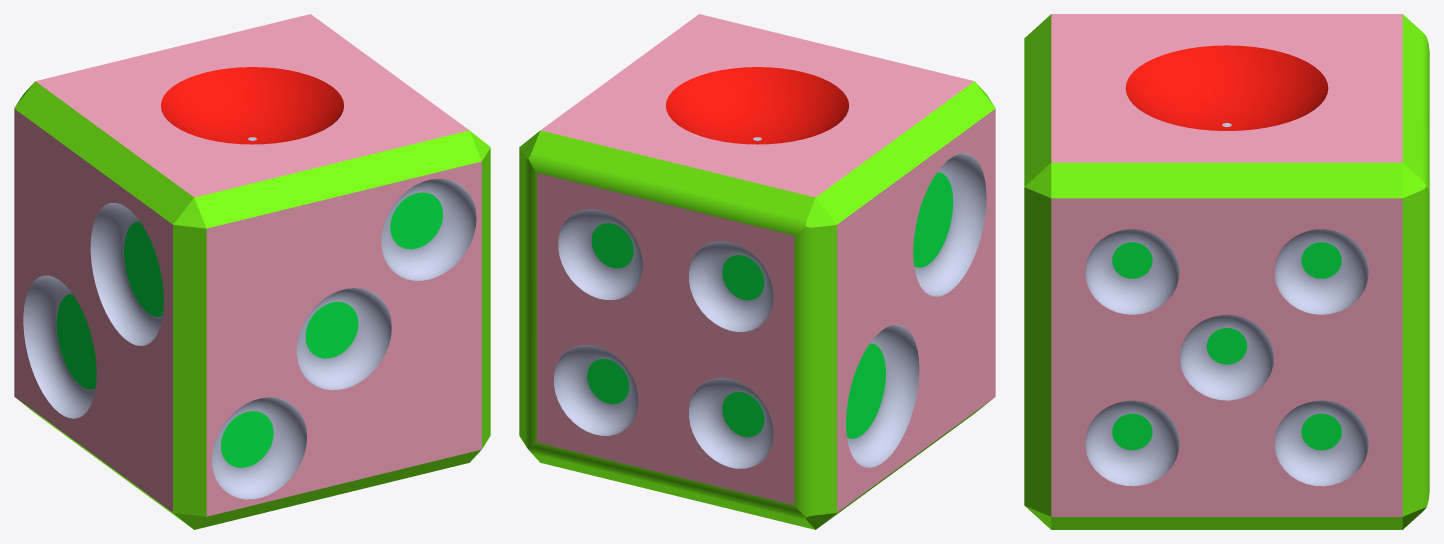
File: sai.glb
The picture shows the model from 3 angles, left to right: view 1: azimuth 30°, elevation 25°; view 2: azimuth 150°, elevation 25°; view 3: azimuth 270°, elevation 25°; orthographic projection. The views are drawn at different scales.
Parts seen in each view (by area): view 1: Part1; view 2: Part1; view 3: Part1.
Part boxes in pixels (left/top/right/bottom): Part1: left=14, top=14, right=490, bottom=529; Part1: left=519, top=14, right=995, bottom=529; Part1: left=1024, top=14, right=1429, bottom=529.
Bounding box in the file's own units: 0.03 × 0.03 × 0.03.
